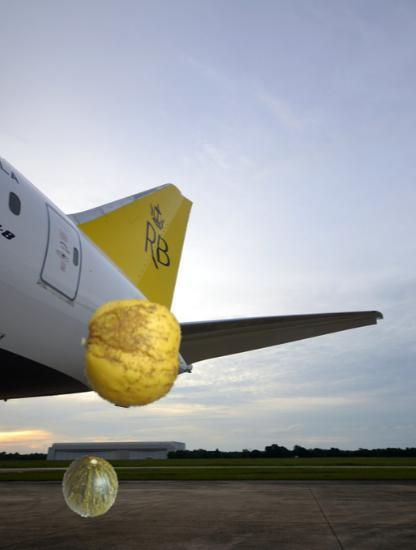Apple: (77, 298, 187, 408)
Melon: (59, 456, 121, 518)
